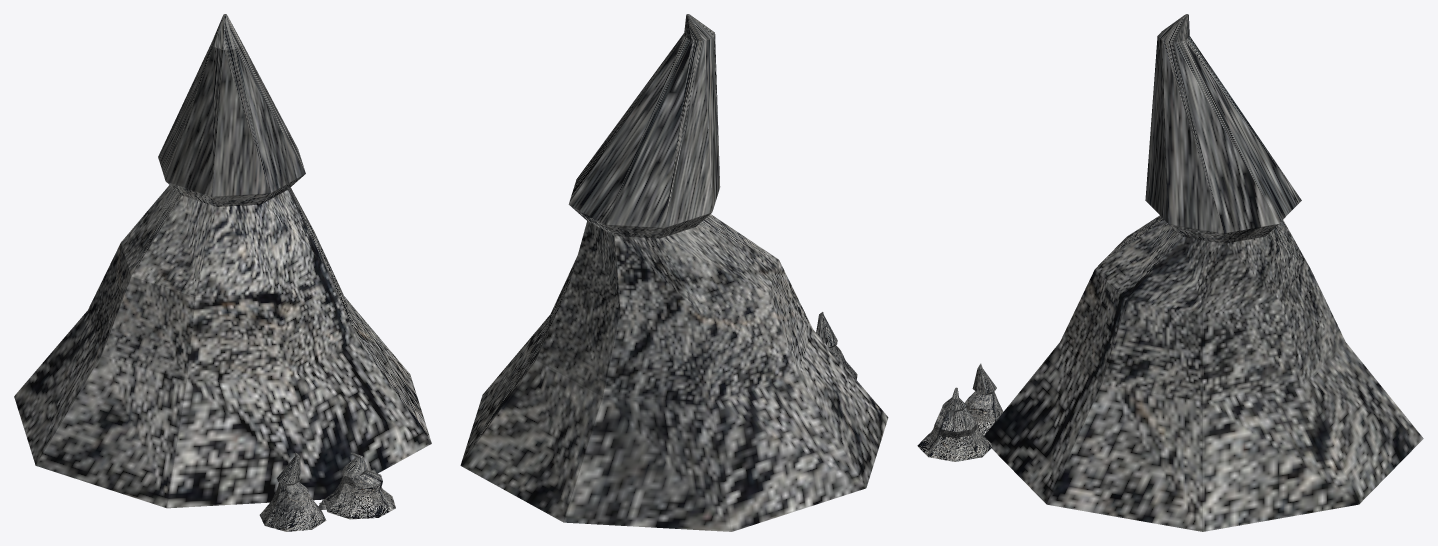
Rendered from Stalagmite.fbx.
The picture shows the model from 3 angles, left to right: view 1: azimuth 30°, elevation 25°; view 2: azimuth 150°, elevation 25°; view 3: azimuth 270°, elevation 25°; orthographic projection. The views are drawn at different scales.
Parts seen in each view (by area): view 1: Cylinder, Cylinder.001; view 2: Cylinder, Cylinder.001; view 3: Cylinder, Cylinder.001.
Part boxes in pixels (<box>): Cylinder: <box>14,14,431,519</box>; Cylinder.001: <box>259,452,326,531</box>; Cylinder: <box>460,14,888,531</box>; Cylinder.001: <box>816,312,857,379</box>; Cylinder: <box>917,14,1423,531</box>; Cylinder.001: <box>965,363,1003,435</box>.
Bounding box in the file's own units: 234 × 251 × 268.
